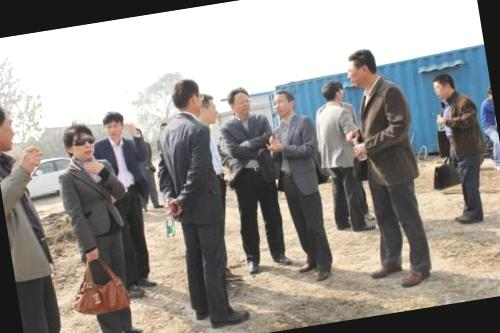no_helmet: (340, 45, 382, 91), (60, 117, 98, 163), (168, 74, 206, 120), (96, 107, 132, 144), (223, 84, 258, 122), (0, 95, 22, 155), (195, 90, 222, 127), (269, 88, 298, 119), (430, 70, 456, 101), (320, 76, 345, 105)
